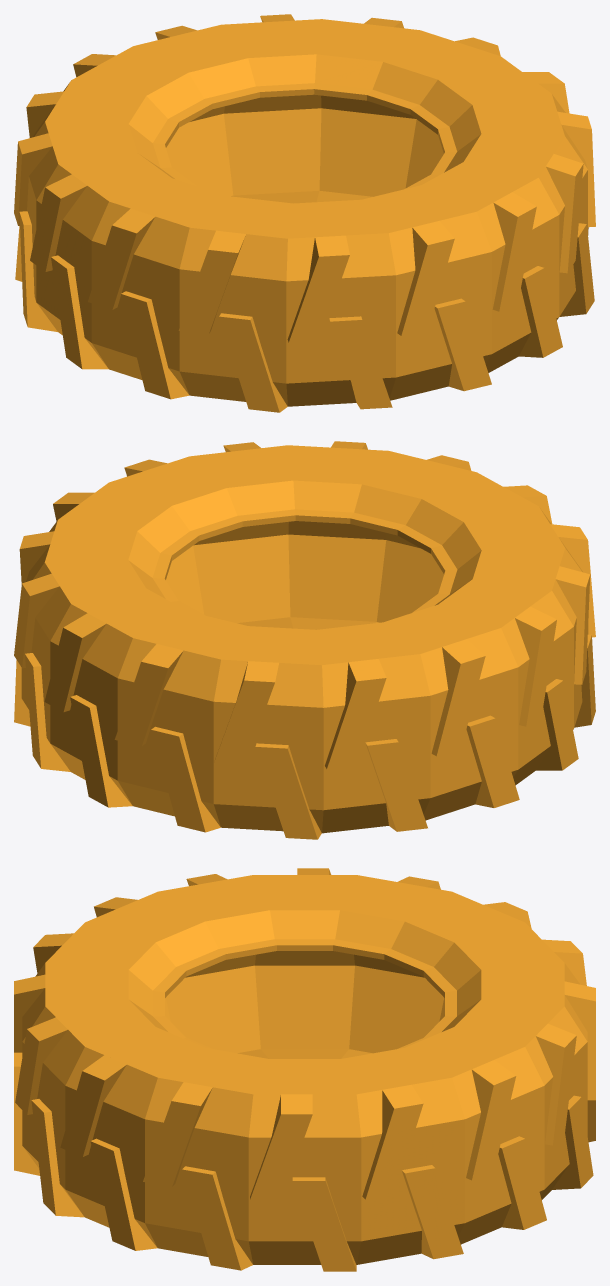
File: SM_Tractor_Tire_Big.fbx
The picture shows the model from 3 angles, top to bottom: view 1: azimuth 30°, elevation 25°; view 2: azimuth 150°, elevation 25°; view 3: azimuth 270°, elevation 25°; orthographic projection.
Visible parts, largest first — view 1: tractor-tire-big; view 2: tractor-tire-big; view 3: tractor-tire-big.
Boxes of the visible parts, bbox=[...] form: tractor-tire-big: bbox=[14, 14, 595, 412]; tractor-tire-big: bbox=[14, 441, 595, 839]; tractor-tire-big: bbox=[14, 868, 595, 1271].
Size of the model in its own units: 2.04 by 0.6589 by 2.04.
